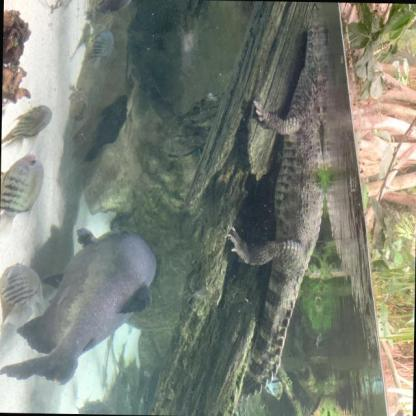fish: (0, 220, 160, 390), (0, 151, 46, 238), (0, 257, 46, 329), (1, 101, 54, 155), (84, 0, 132, 30), (83, 28, 115, 70), (265, 372, 282, 402)
